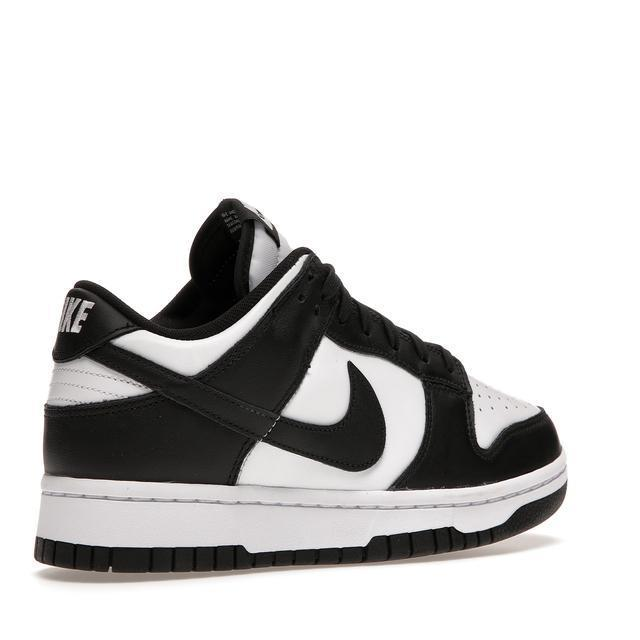J1_InsoleChar: (32, 196, 570, 576)
J1_StitchPattern: (32, 465, 568, 574), (43, 353, 545, 456), (36, 464, 569, 516), (31, 525, 496, 574), (44, 357, 283, 441), (462, 372, 544, 453), (44, 361, 150, 408), (215, 198, 282, 248), (466, 374, 536, 419), (55, 292, 96, 336), (217, 205, 243, 235)
